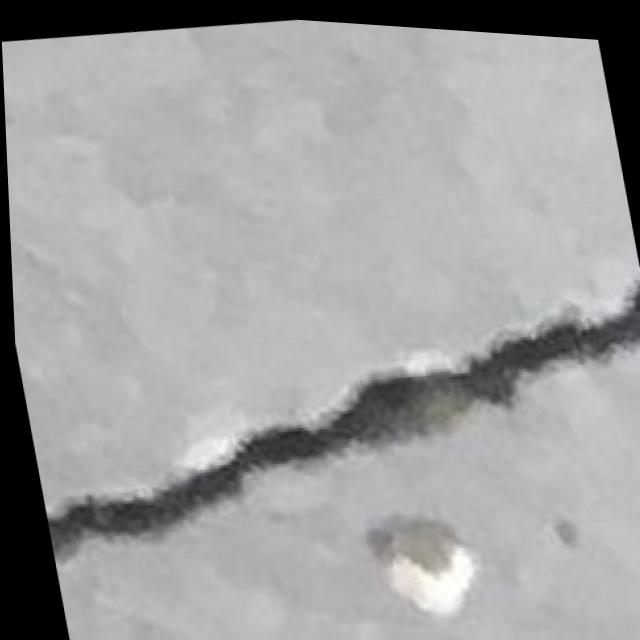Crack: (32, 261, 640, 625)
